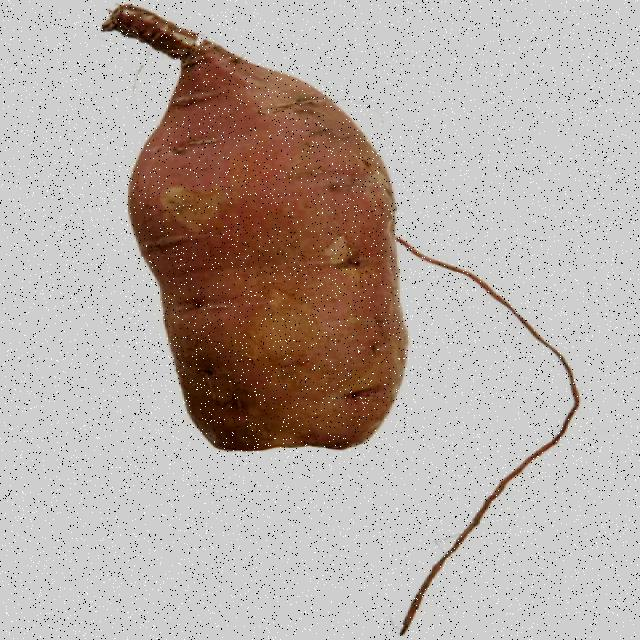Sweet Potato: (78, 0, 462, 486)
